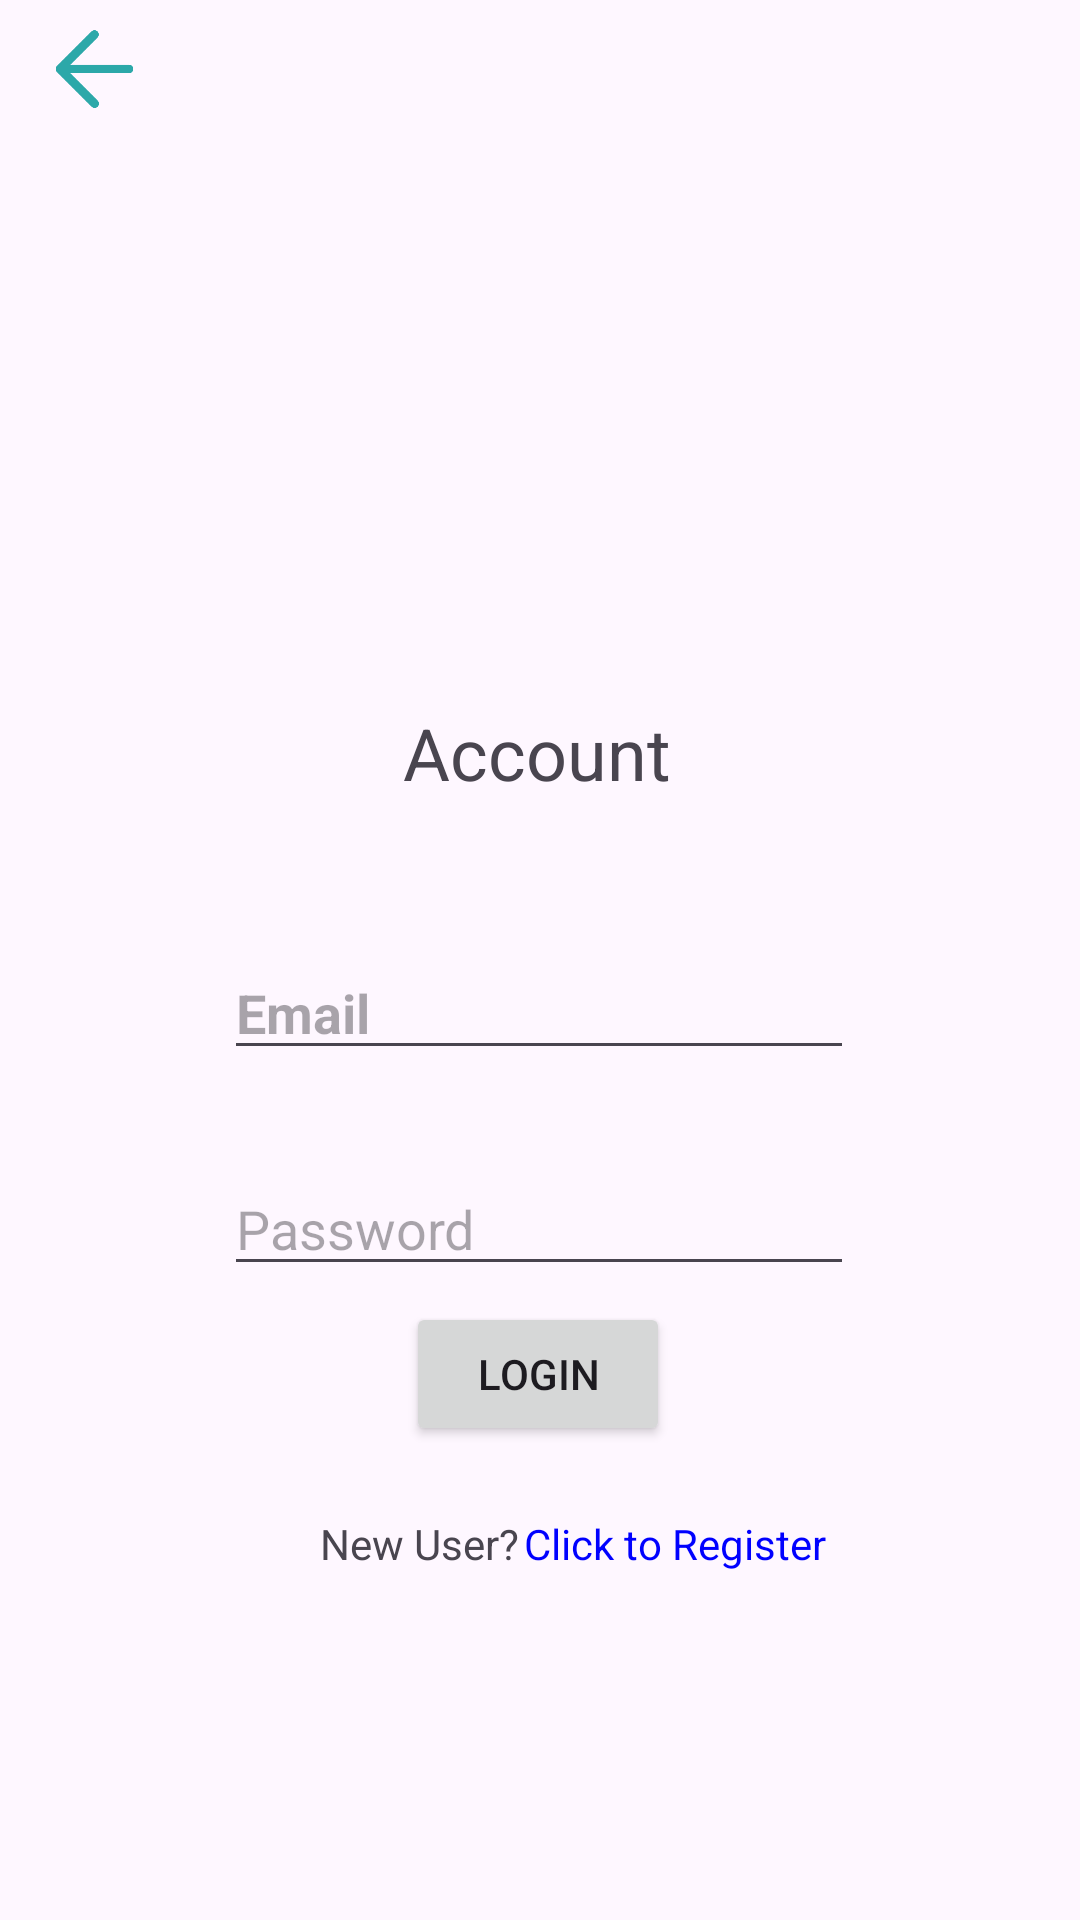

Icons on this 1080 x 1920 Android screen, each with the point to tap as (x=x, y=y):
arrow left: (x=94, y=69)
